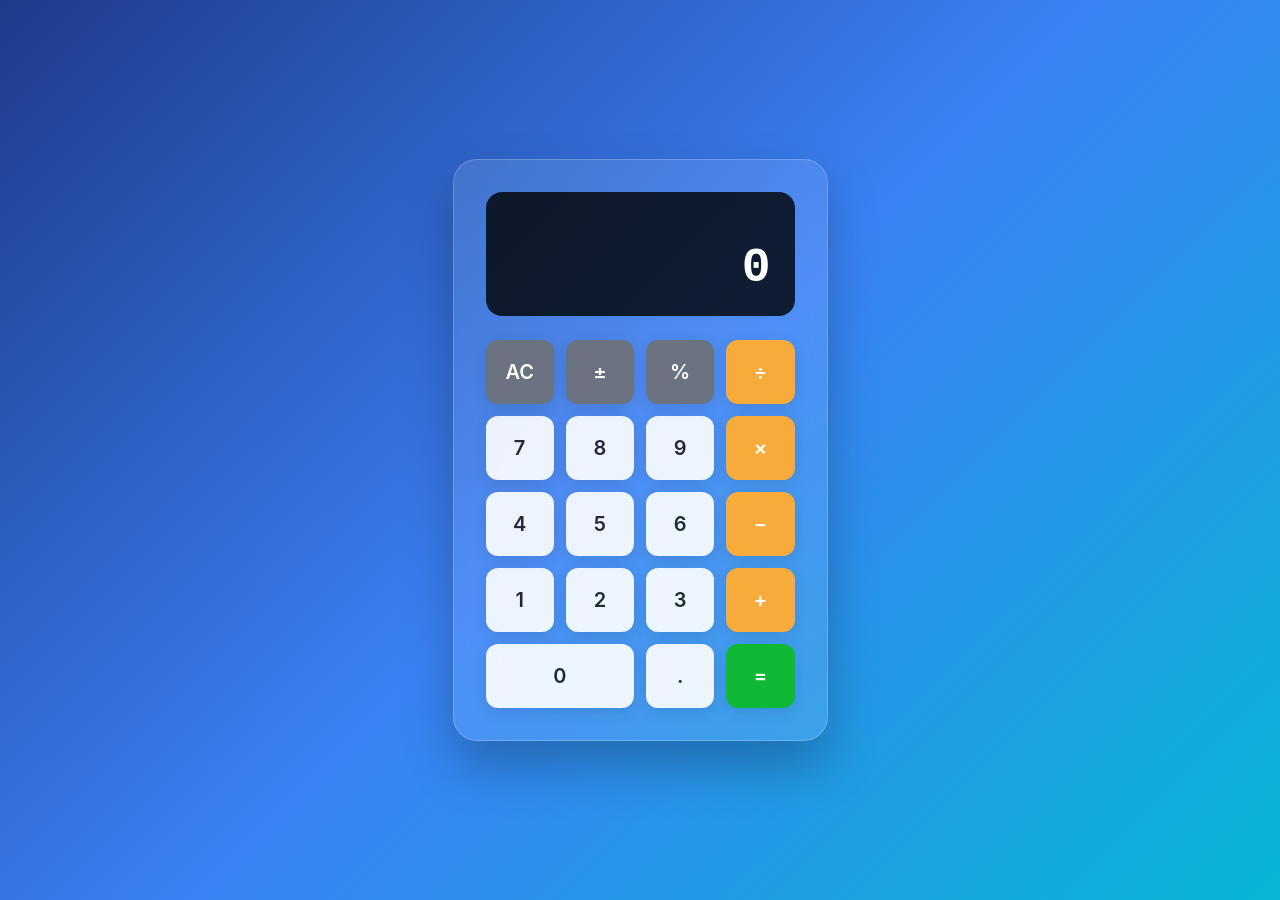
Test: Calculator UI Tests - User Interface Validation › should clear display when AC button with correct text is clicked
Expected: the button "AC" is shown, [486,340,554,404]
// Ingresar un número
Click the button "9" at coordinates (680, 448), box [646,416,714,480]
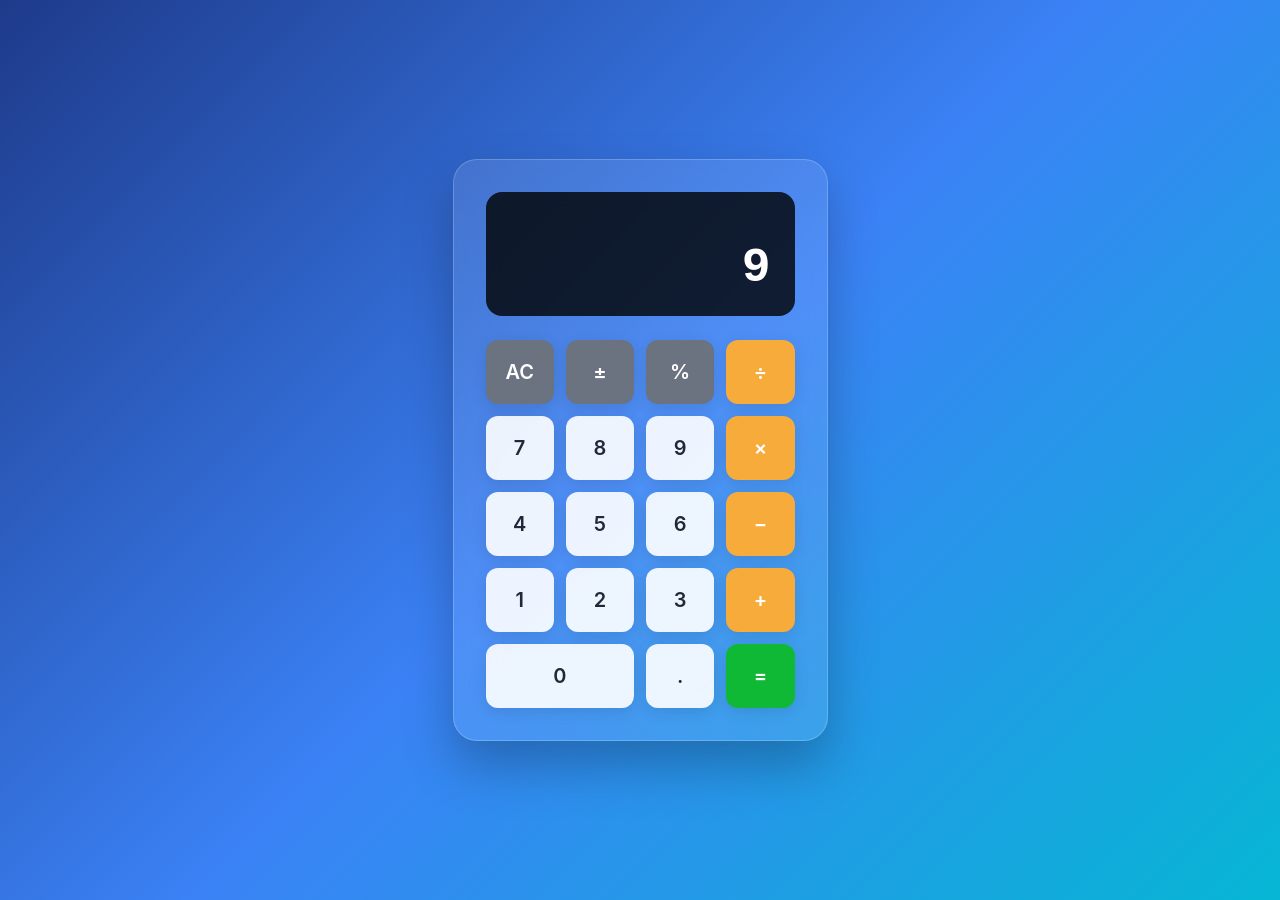
Now the text with test id "calculator-display" reads "9", box [742,241,770,295]
Click the button "AC" at coordinates (520, 372), box [486,340,554,404]
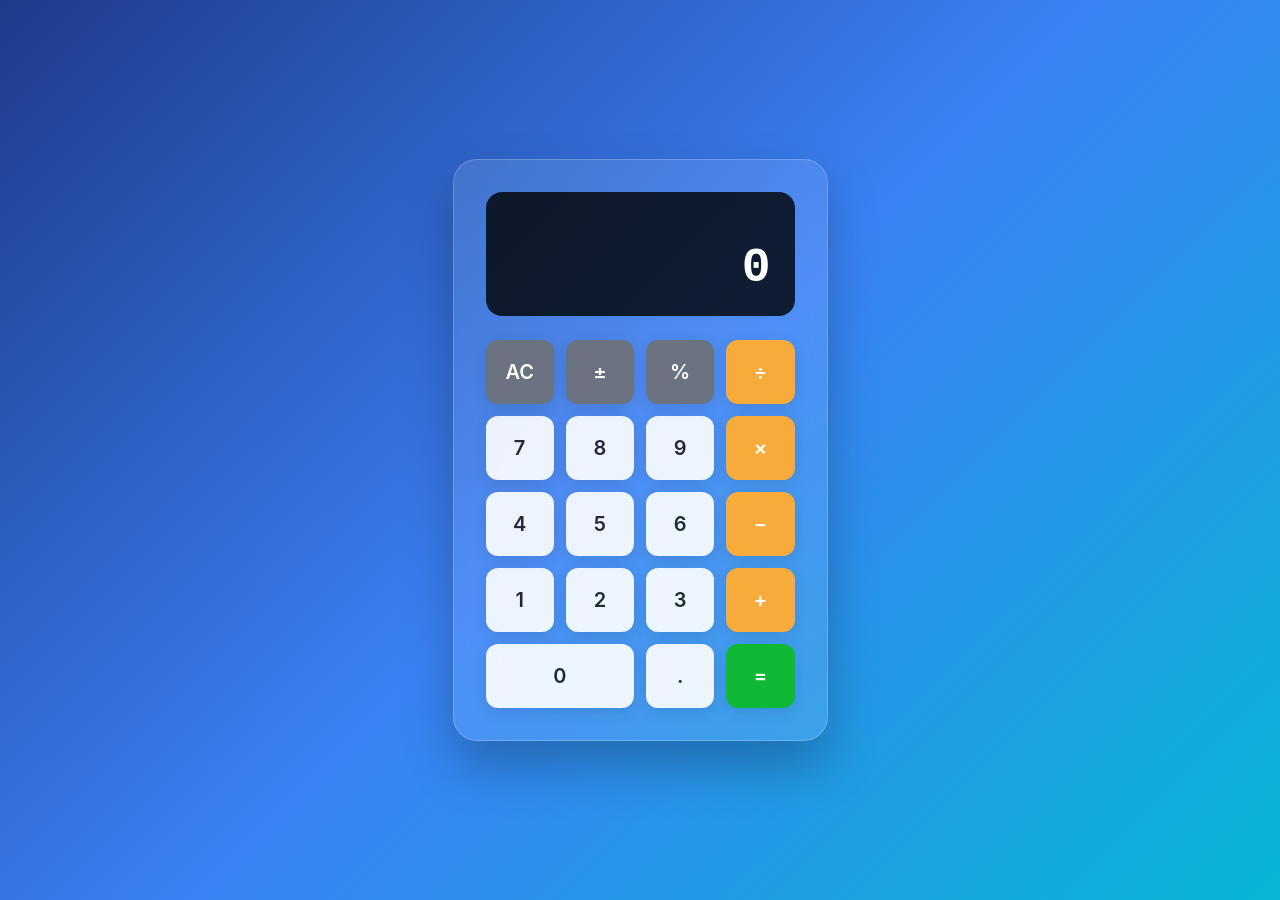
Now the text with test id "calculator-display" reads "0", box [742,241,770,295]
